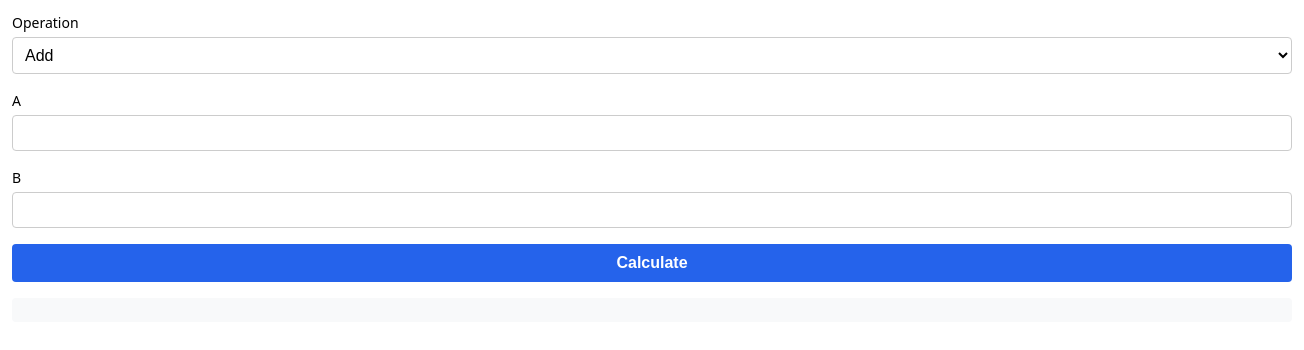
displays backend error messages
Type "1" into the field labelled "A".
click(652, 133); type("1")  # box [12,115,1292,151]
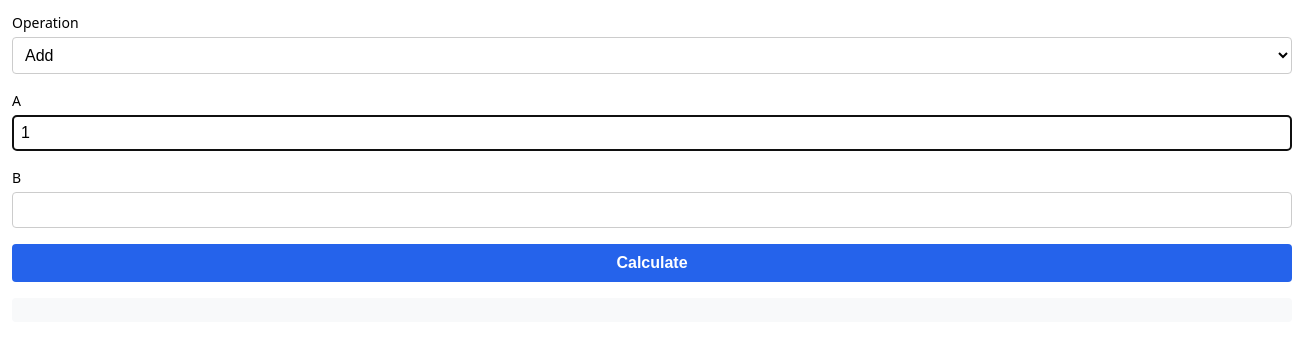
Type "0" into the field labelled "B".
click(652, 210); type("0")  # box [12,192,1292,228]
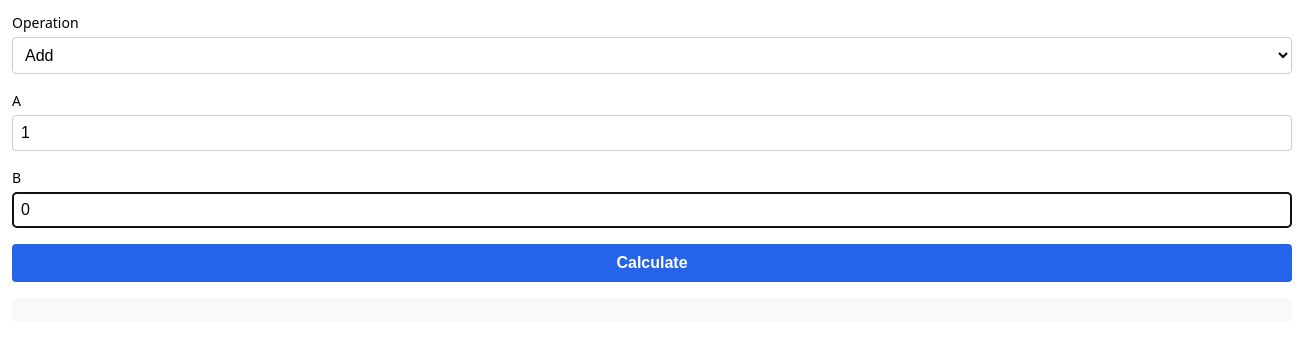
Select "Divide" in the dropdown labelled "Operation" at (652, 56), box [12,37,1292,74]
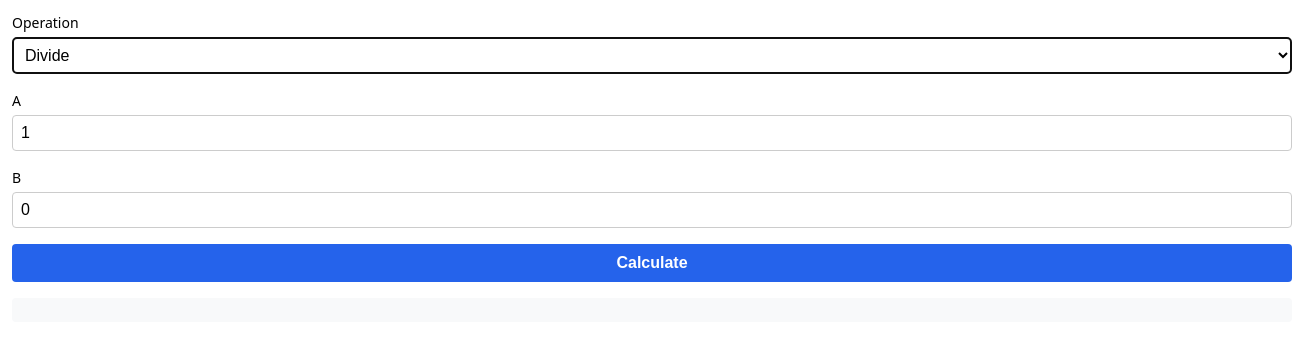
Click the button "Calculate".
click(652, 263)  # box [12,244,1292,282]
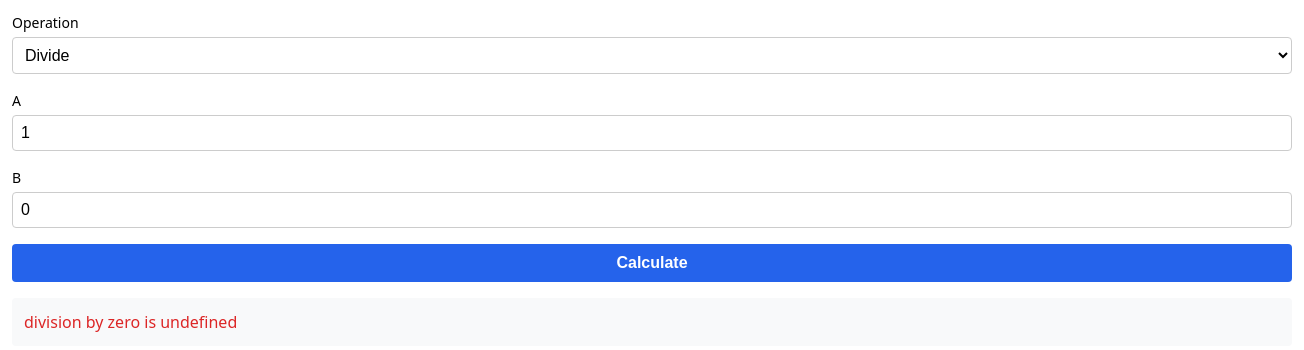
Now the text "division by zero is undefined" is shown, box [24,311,237,333]
